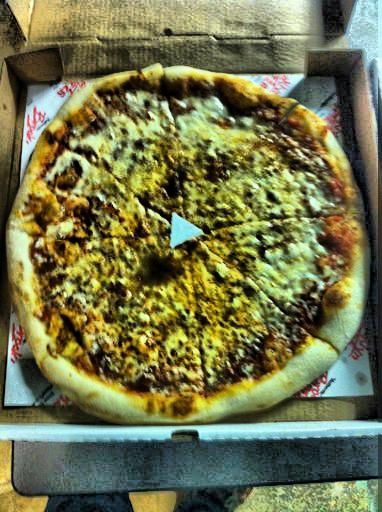pizza: (6, 56, 381, 417)
